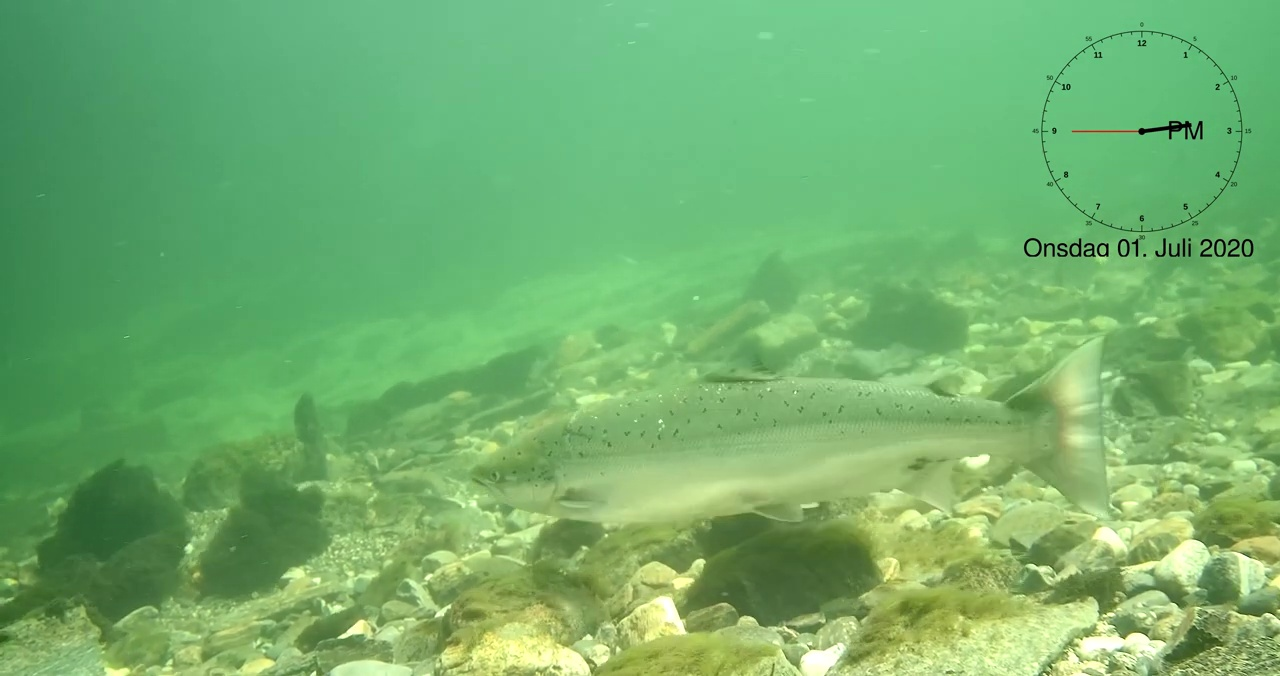salmon: (464, 332, 1115, 527)
